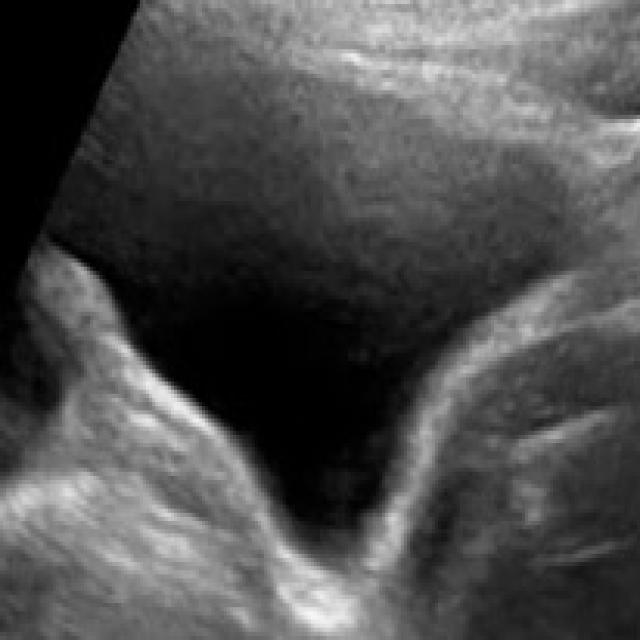bladder: (19, 10, 610, 614)
